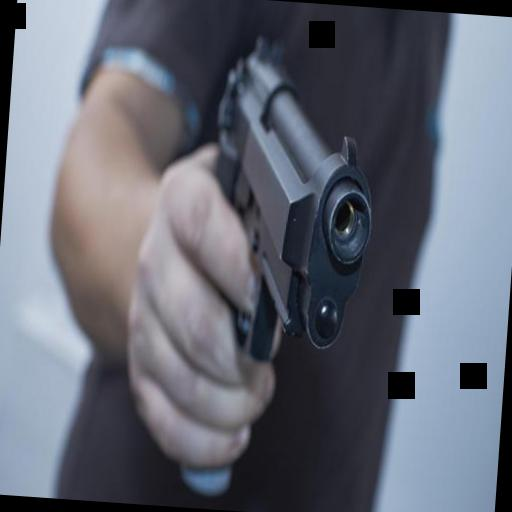Handgun: (171, 36, 385, 508)
